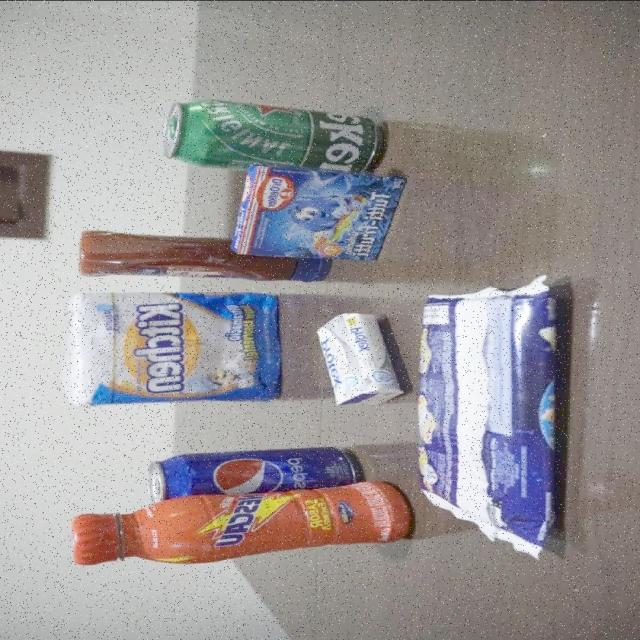BeerCan: (163, 98, 383, 172)
ChocolateMilk: (70, 479, 408, 566)
Gelatine: (232, 164, 406, 262)
Ketchup: (76, 228, 329, 283)
Napkin: (59, 290, 287, 405)
Popcorn: (418, 280, 565, 560)
Soap: (315, 313, 406, 406)
SodaCan: (146, 446, 358, 503)
